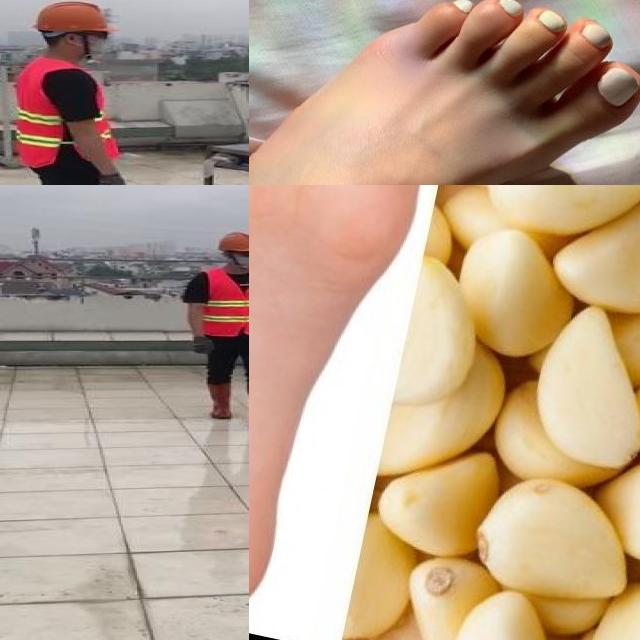Barefoots: (249, 185, 423, 613), (249, 0, 640, 185)
boots: (204, 381, 234, 418)
face_mask: (68, 27, 113, 59), (234, 248, 249, 267)
glasses: (238, 248, 249, 258)
hand_glove: (96, 171, 128, 185), (194, 337, 215, 355)
head_helmet: (29, 0, 119, 36), (214, 231, 249, 252)
person: (0, 0, 140, 185), (180, 229, 249, 430)
vest: (11, 58, 120, 167), (204, 268, 249, 336)
